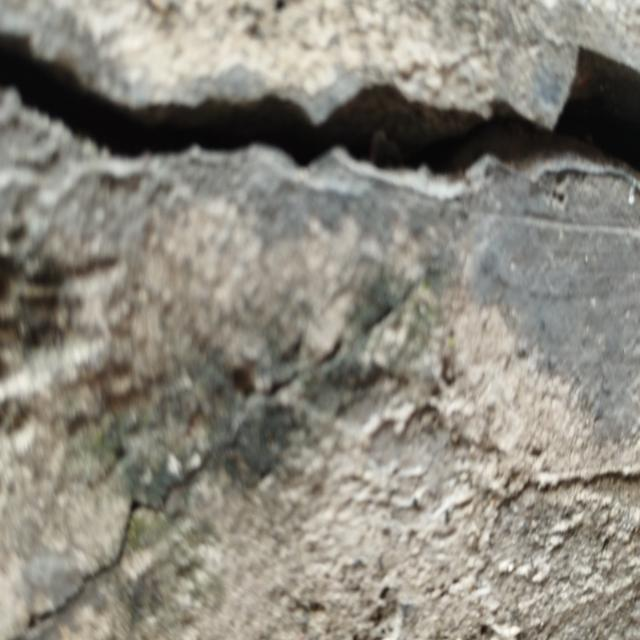horizontal crack: (0, 40, 640, 173)
